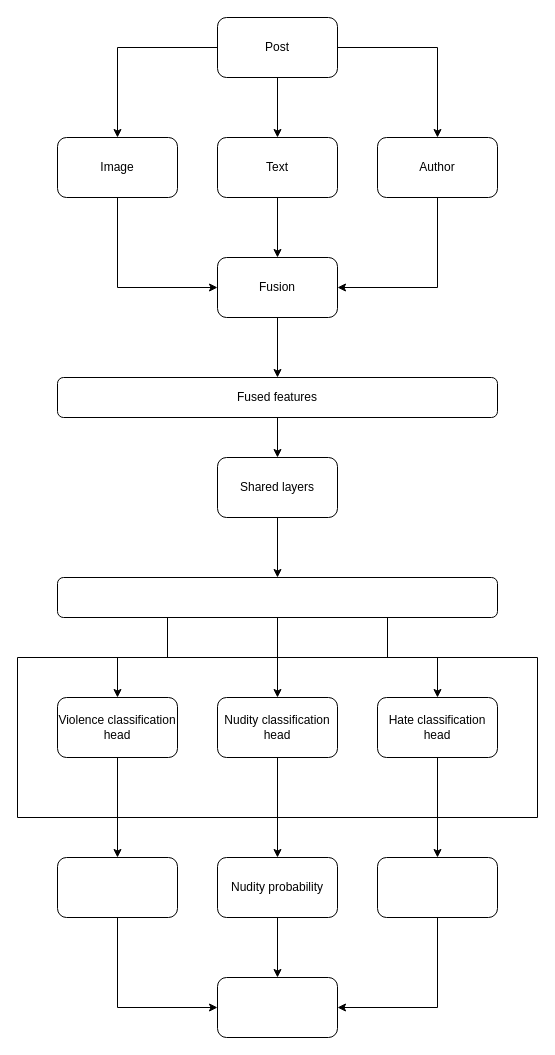
The diagram is 555 pixels wide and 1055 high, and some of its shapes have lost their labels. Here are the shapes that lost their labels. From the top down, the centre of each, then its label:
At (277,597): "Transformed features".
At (277,737): "Task specific layers".
At (117,887): "Violence probability".
At (437,887): "Hate probability".
At (277,1007): "Harmful probability".
